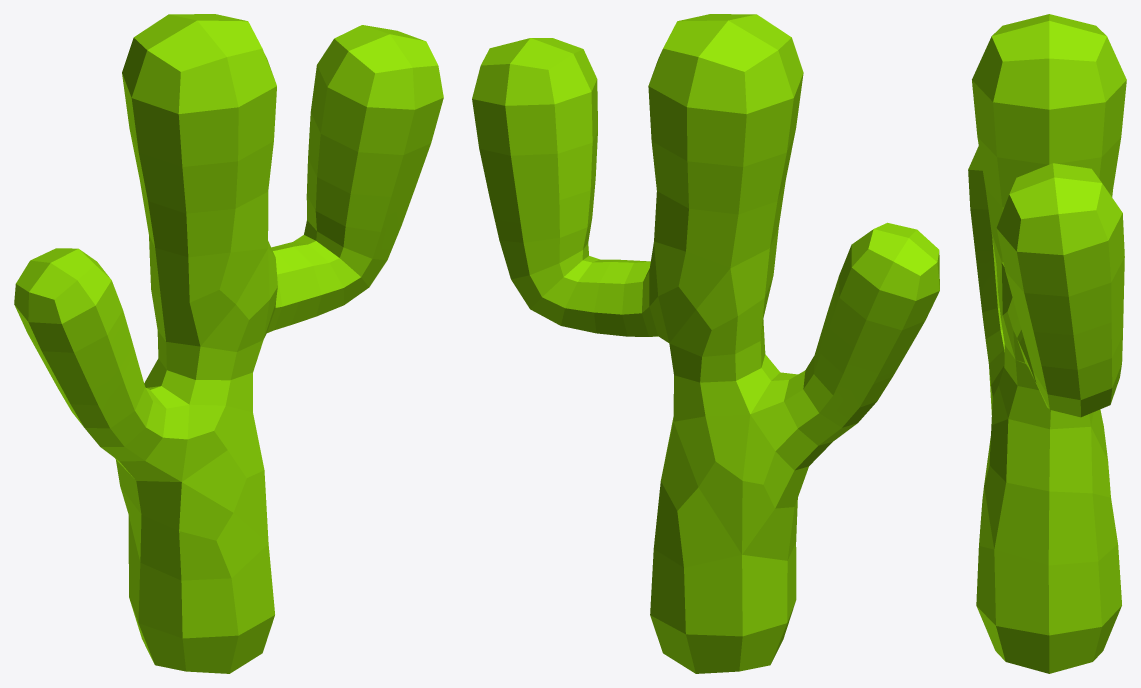
Rendered from cactus.fbx.
The picture shows the model from 3 angles, left to right: view 1: azimuth 30°, elevation 25°; view 2: azimuth 150°, elevation 25°; view 3: azimuth 270°, elevation 25°; orthographic projection.
Parts seen in each view (by area): view 1: Plane; view 2: Plane; view 3: Plane.
Boxes of the visible parts, bbox=[...] form: Plane: bbox=[14, 14, 443, 673]; Plane: bbox=[472, 14, 939, 673]; Plane: bbox=[968, 14, 1126, 673].
Bounding box in the file's own units: 127 × 182 × 40.72.
